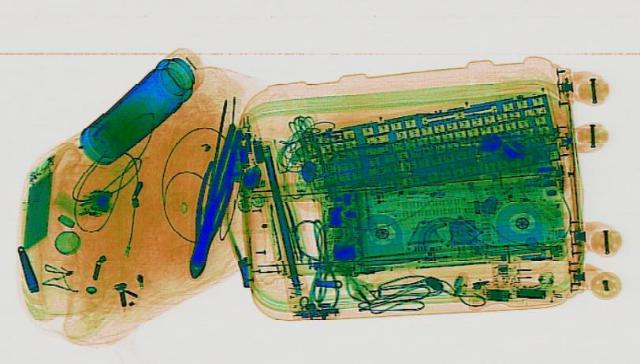Pliers: (178, 127, 244, 276)
